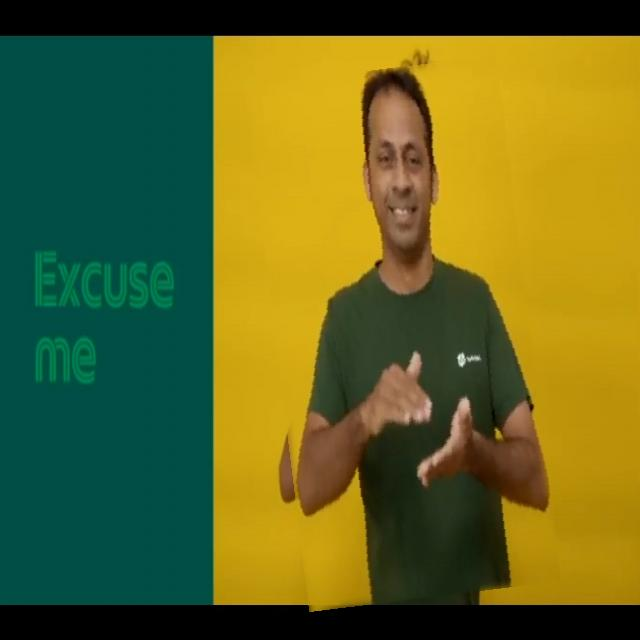ExcuseMe: (261, 62, 545, 605)
